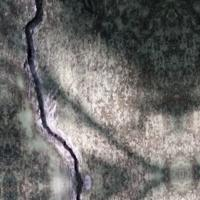crack: (11, 0, 88, 199)
